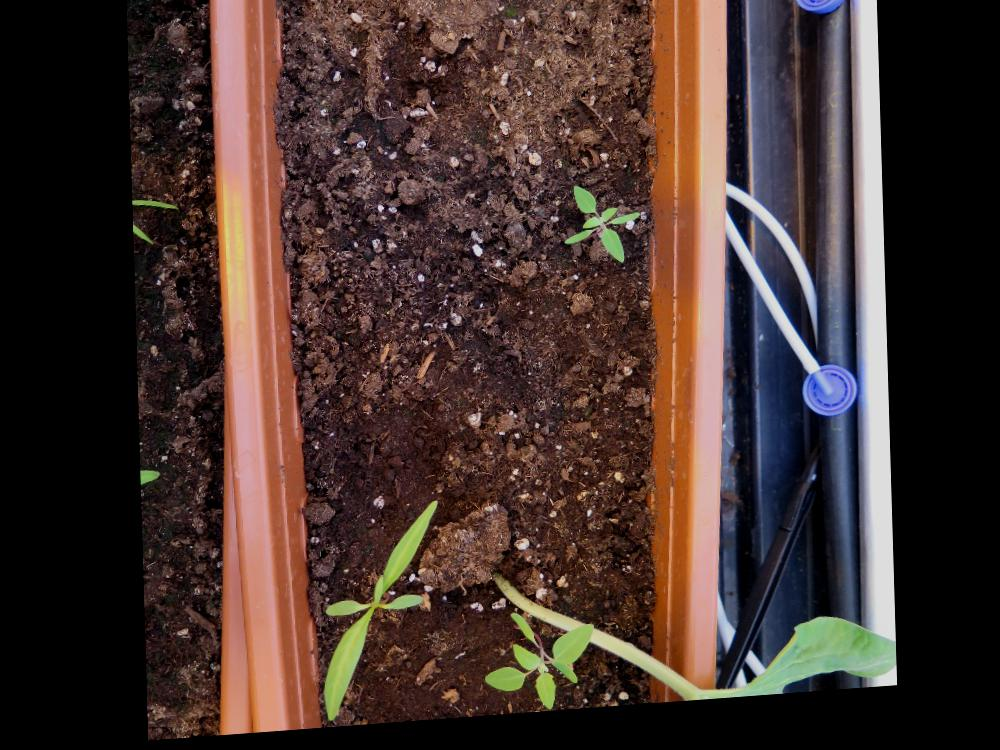weed: (313, 504, 441, 726), (558, 188, 641, 276)
